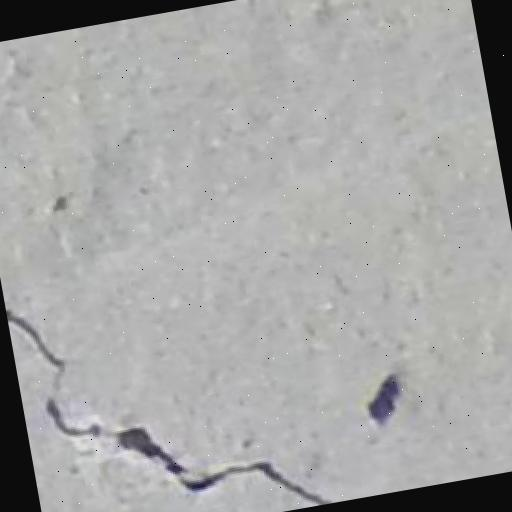spalling: (8, 298, 338, 506)
